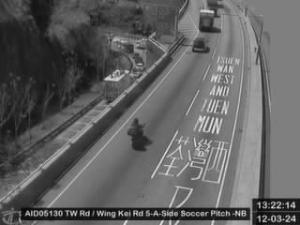motorbike: (128, 116, 144, 150)
truck: (104, 70, 130, 100), (198, 10, 215, 30)
vehicle: (192, 38, 210, 52)
